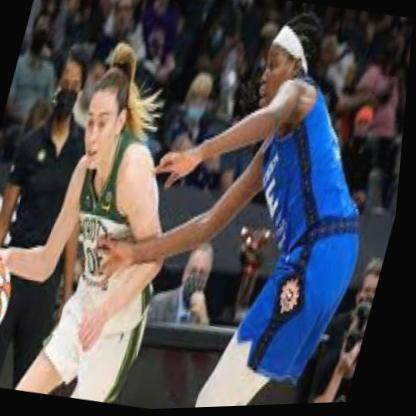basketball: (0, 253, 24, 350)
